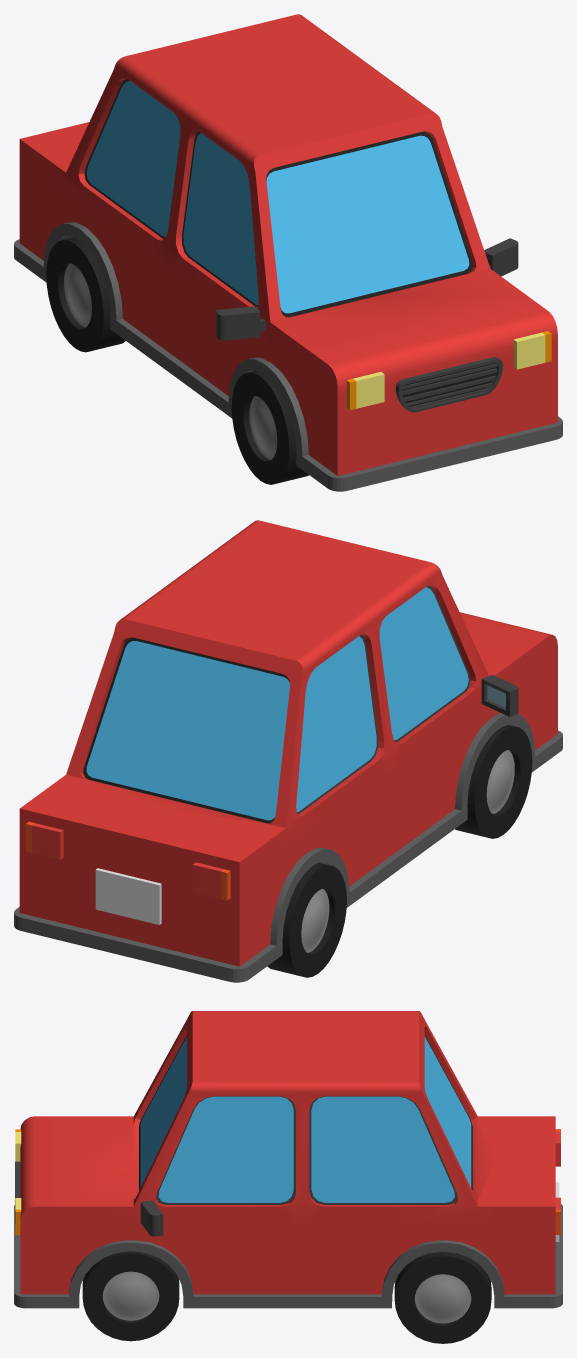
Rendered from oncoming_automobile.glb.
3 views of the same model, one above another, from view 1: azimuth 30°, elevation 25°; view 2: azimuth 150°, elevation 25°; view 3: azimuth 270°, elevation 25° (orthographic). The views are drawn at different scales.
Visible parts, largest first — view 1: Cube.679, Cube.685, Cube.682, Cube.680, Cube.684, Cube.683, Cube.681; view 2: Cube.679, Cube.685, Cube.682, Cube.680, Cube.681, Cube.683; view 3: Cube.679, Cube.685, Cube.682, Cube.680, Cube.681, Cube.683.
Boxes of the visible parts, x1,y1,x2,y2 form: Cube.679: (19, 14, 557, 475); Cube.685: (46, 237, 308, 484); Cube.682: (14, 239, 562, 491); Cube.680: (43, 222, 308, 456); Cube.684: (395, 357, 503, 412); Cube.683: (215, 238, 518, 340); Cube.681: (346, 331, 551, 410); Cube.679: (19, 520, 557, 966); Cube.685: (267, 725, 532, 977); Cube.682: (14, 730, 562, 982); Cube.680: (270, 713, 535, 945); Cube.681: (25, 821, 230, 900); Cube.683: (481, 675, 518, 716); Cube.679: (20, 1011, 555, 1294); Cube.685: (82, 1251, 491, 1343); Cube.682: (14, 1182, 562, 1308); Cube.680: (69, 1240, 504, 1301); Cube.681: (15, 1129, 560, 1235); Cube.683: (140, 1200, 163, 1236).
Bounding box in the file's own units: 1.82 × 1.71 × 3.44.
Materials: 1 (1 with a texture image).
